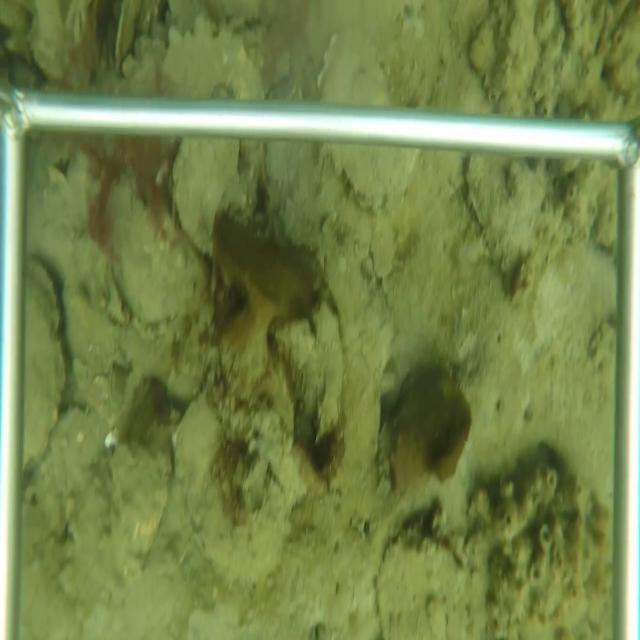Oyster-Indeterminate: (96, 171, 208, 323), (463, 156, 556, 293), (374, 517, 472, 637), (169, 140, 256, 261), (315, 22, 429, 112), (23, 253, 67, 473), (108, 441, 171, 590), (318, 143, 421, 216)
